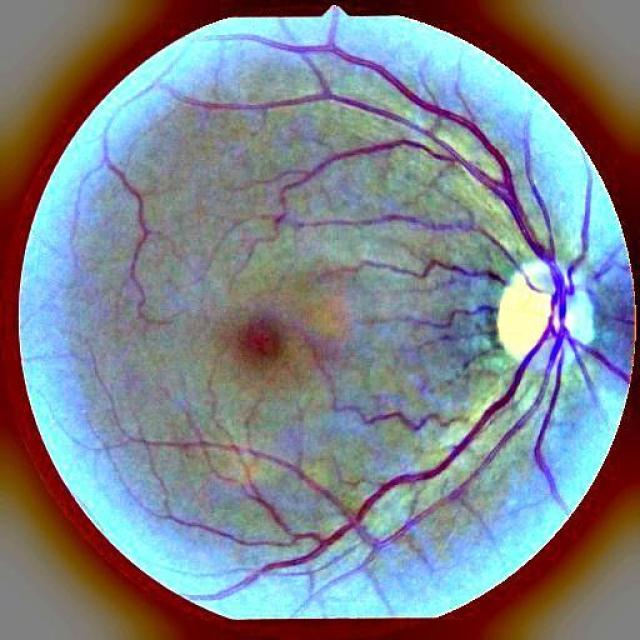Macula: (237, 312, 287, 359)
Nerves: (210, 35, 629, 501), (330, 211, 541, 291), (366, 259, 509, 286)
Optic Disk: (497, 261, 601, 379)
